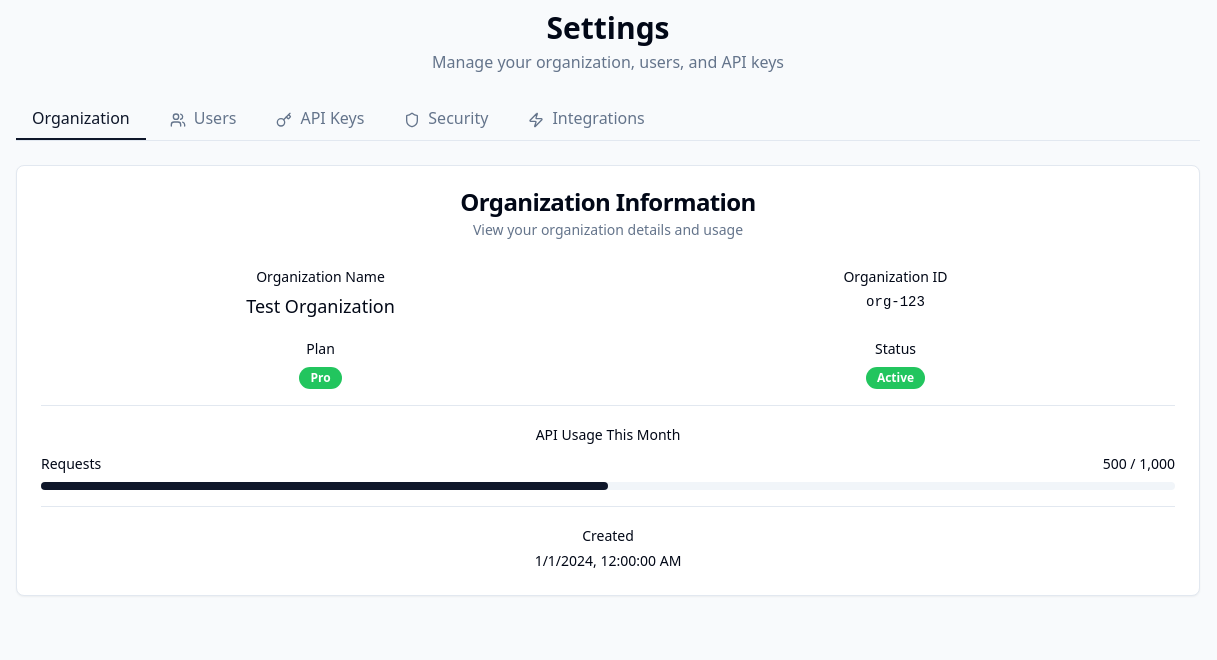
Scenario: SettingsPage › Tab Navigation › switches to api-keys tab when clicked
# Click API Keys tab
Click the button "API Keys". click: click(320, 119)
box: [260, 98, 380, 140]
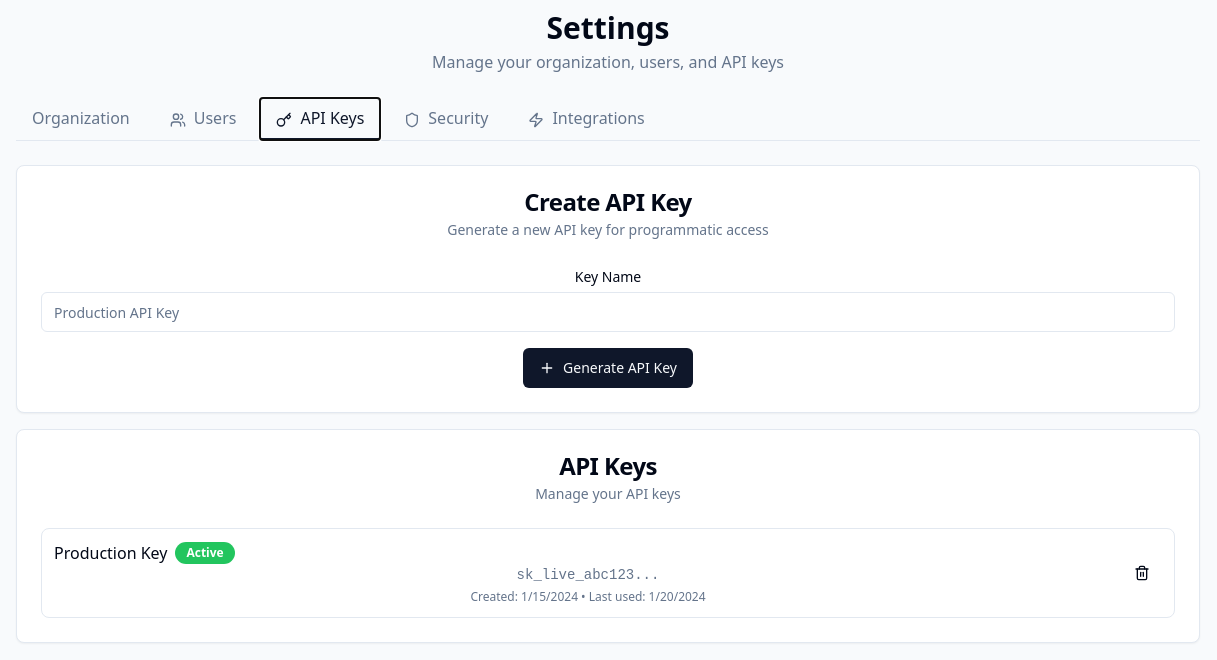
Expected: the heading "Create API Key" is shown, [524, 185, 692, 218]
